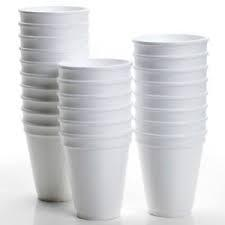Plastic cup: (4, 2, 225, 225)
